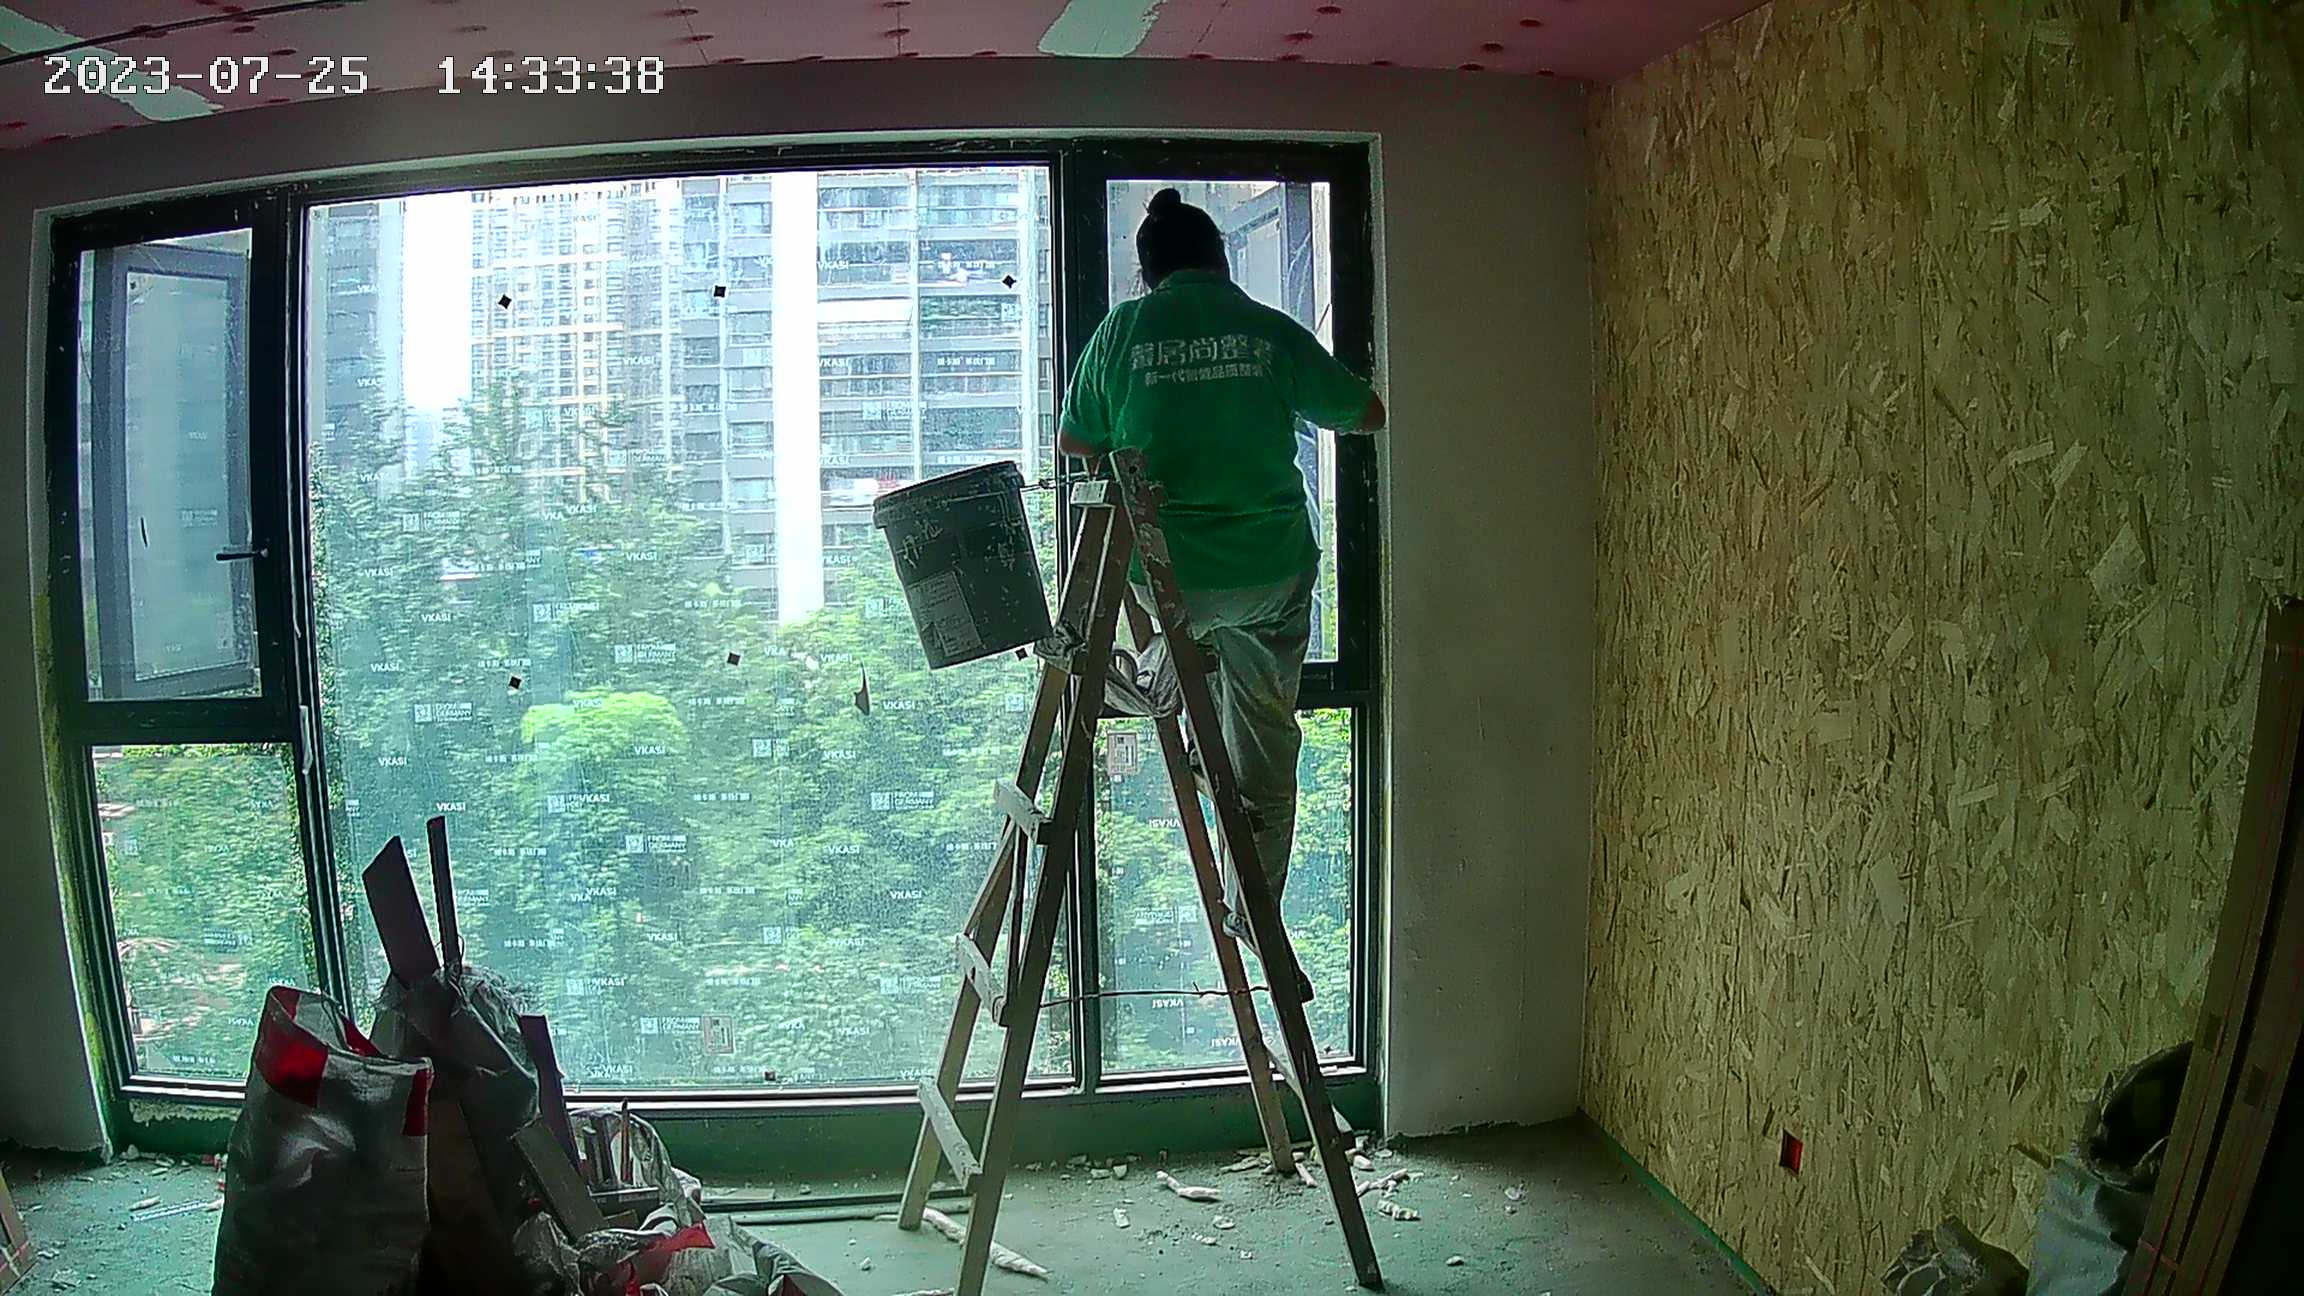people: (1052, 174, 1365, 1006)
window: (51, 208, 1370, 1092)
